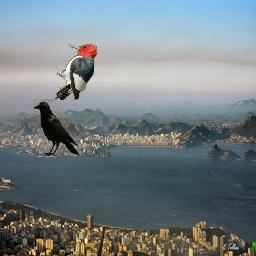Crow: (33, 99, 81, 157)
Woodpecker: (53, 44, 97, 101)
